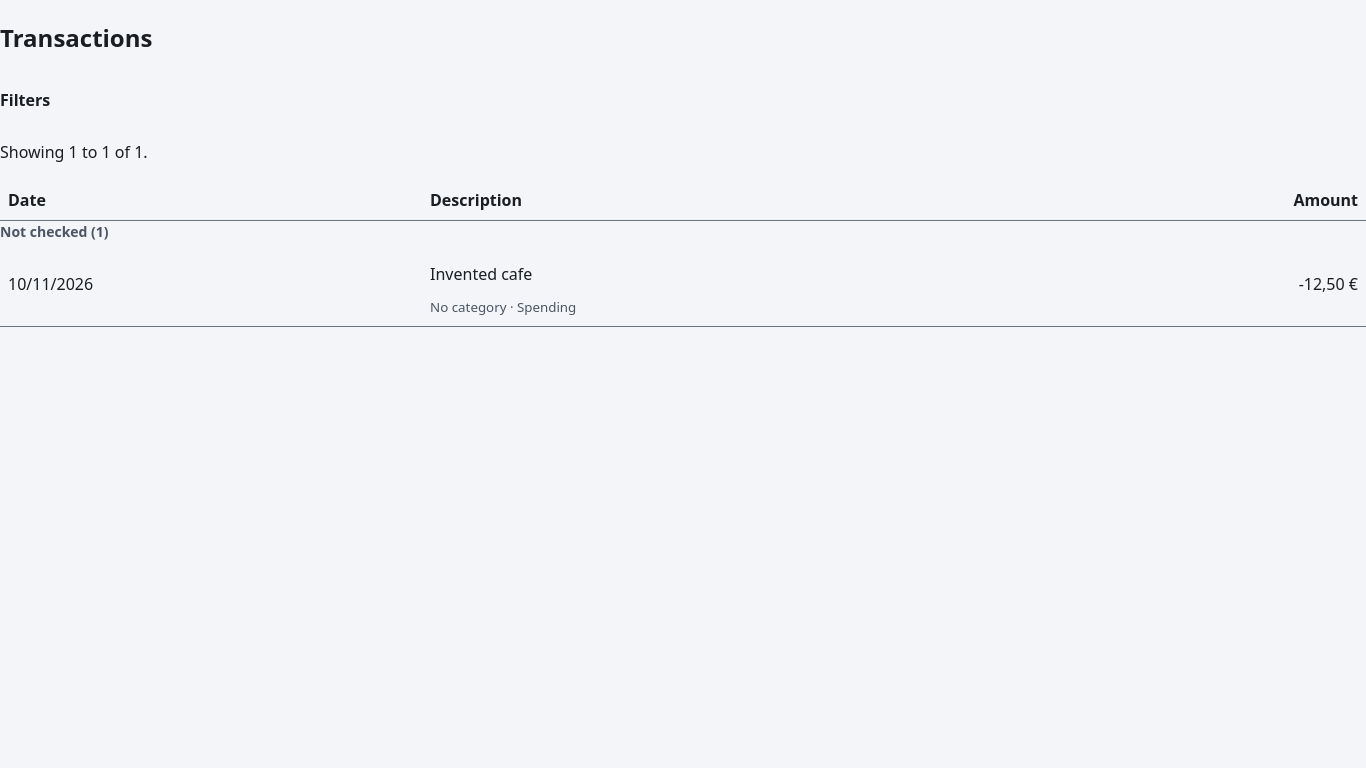
Test: the transaction editor › keeps the note collapsed by default
Click the button. click: coordinates (481, 274)
box: 430,250 -> 1045,298
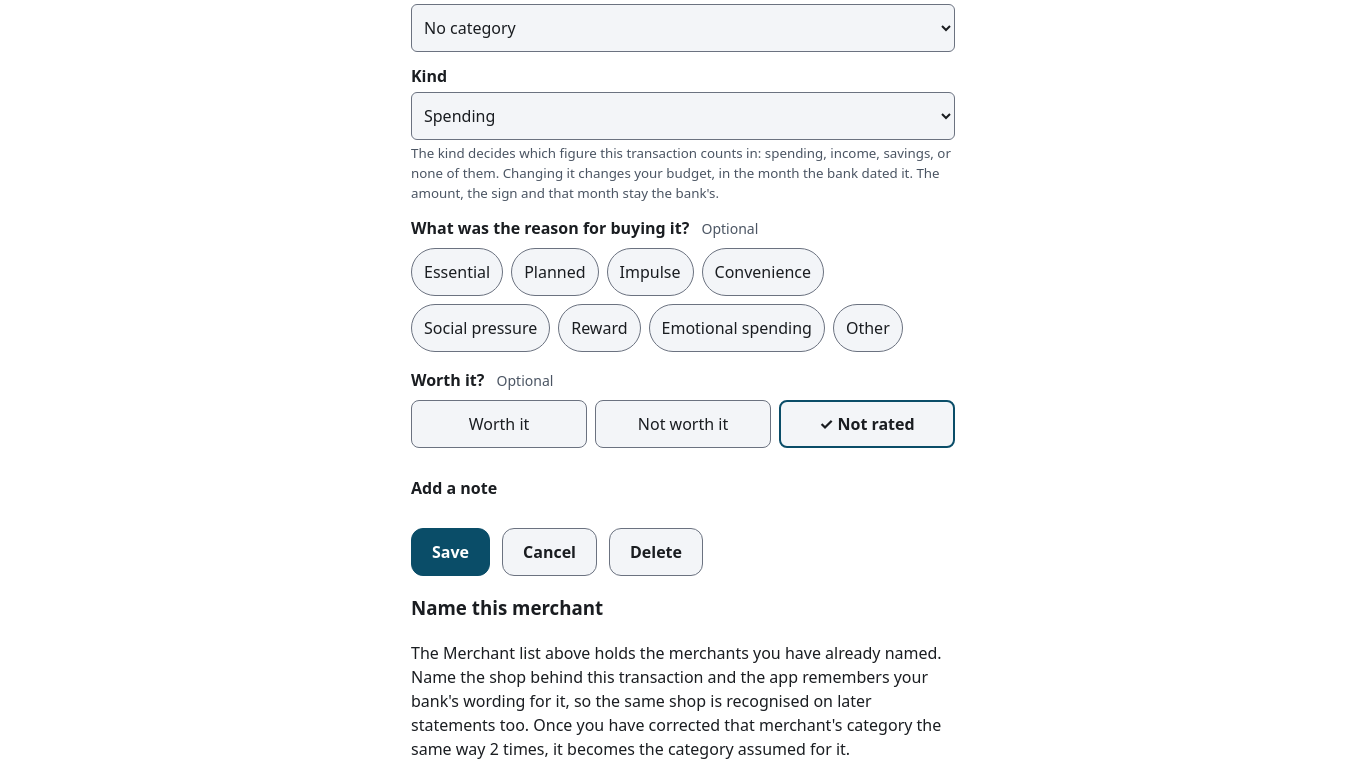
Check: the heading "Add a note" is shown, box 411,477 -> 497,499
